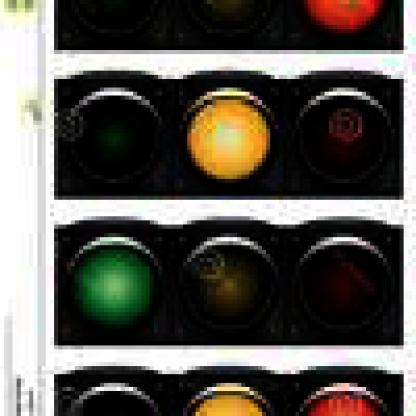traffic-light: (59, 71, 400, 204), (59, 221, 400, 346)
